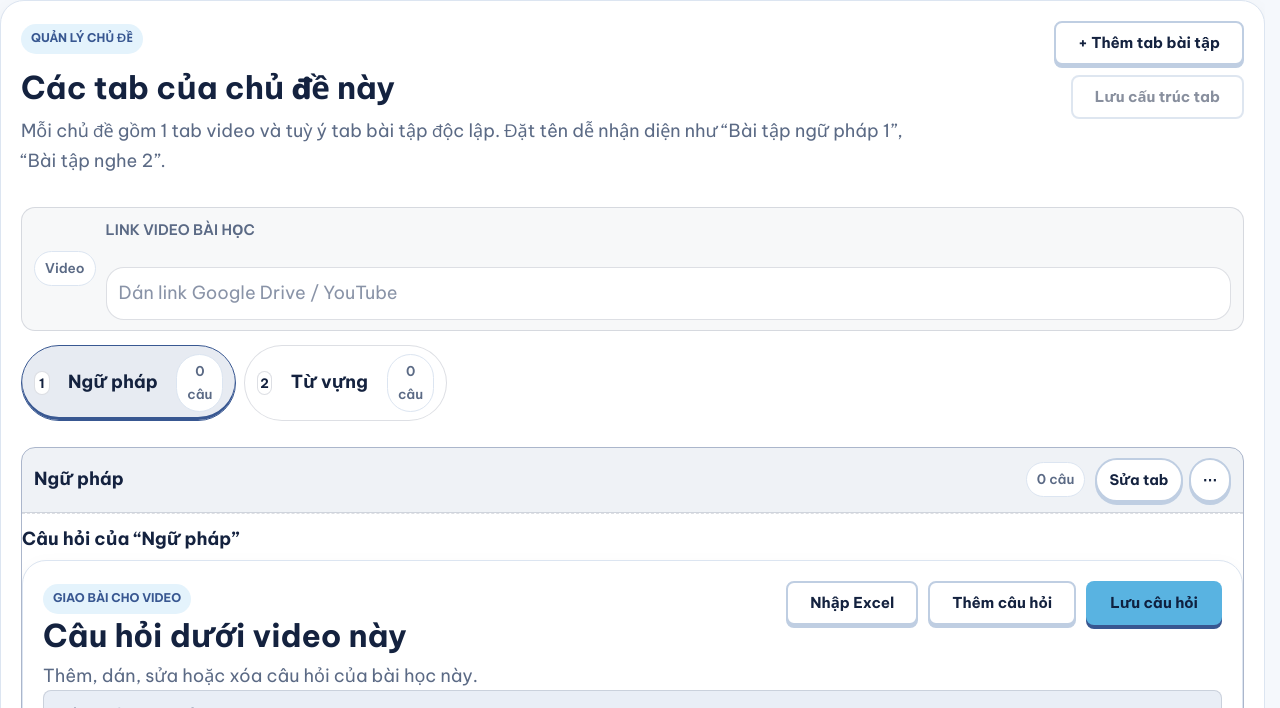
Test case: LessonTabManager › chọn đúng tab để sửa nội dung
Expected: the heading "Câu hỏi của “Ngữ pháp”" is shown, [22,526,240,550]
What coordinates should you click on to do the following:
click the tab "2 Từ vựng 0 câu"
I would click on:
 (346, 383)
Its box is [244,345,447,420].
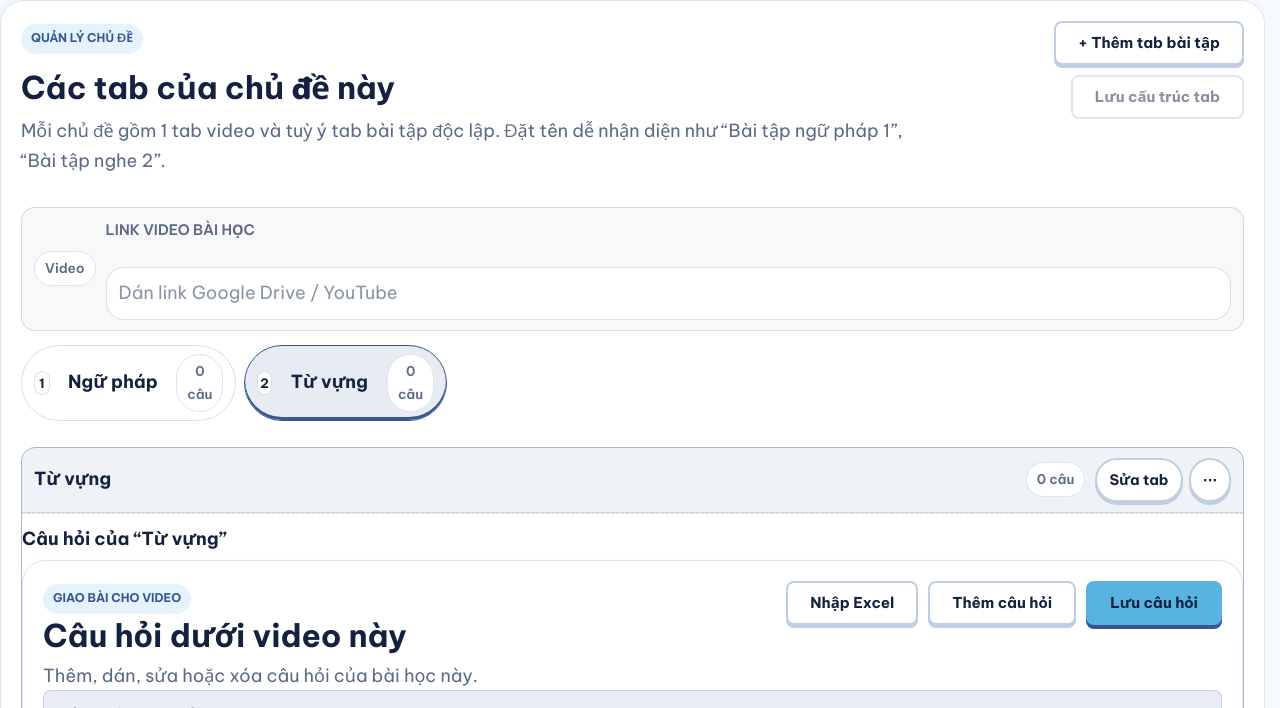
Result: the heading "Câu hỏi của “Từ vựng”" is shown at [22,526,227,550]
